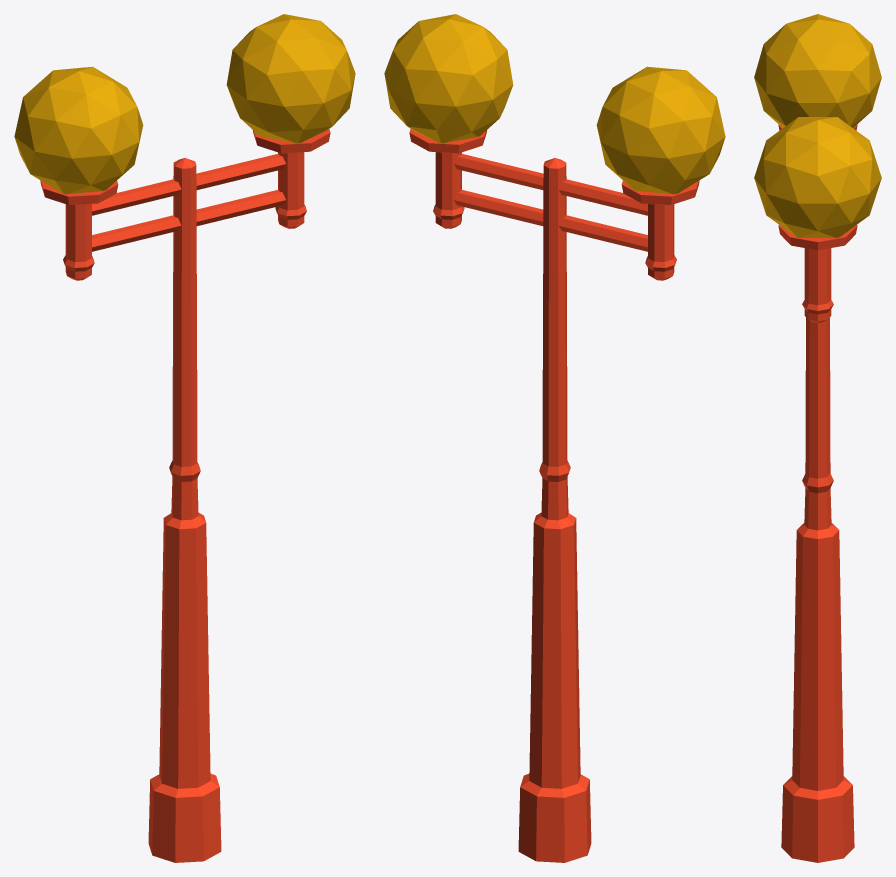
Rendered from SM_Lamp_Sidewalk_C_City.fbx.
3 renders of one model, left to right at view 1: azimuth 30°, elevation 25°; view 2: azimuth 150°, elevation 25°; view 3: azimuth 270°, elevation 25°, orthographic. The views are drawn at different scales.
Visible parts, largest first — view 1: SM_Lamp_Sidewalk_C_City; view 2: SM_Lamp_Sidewalk_C_City; view 3: SM_Lamp_Sidewalk_C_City.
Part boxes in pixels (left/top/right/bottom): SM_Lamp_Sidewalk_C_City: left=14, top=14, right=355, bottom=862; SM_Lamp_Sidewalk_C_City: left=384, top=14, right=725, bottom=862; SM_Lamp_Sidewalk_C_City: left=754, top=14, right=881, bottom=862.
Size of the model in its own units: 1.65 by 3.94 by 0.5872.
